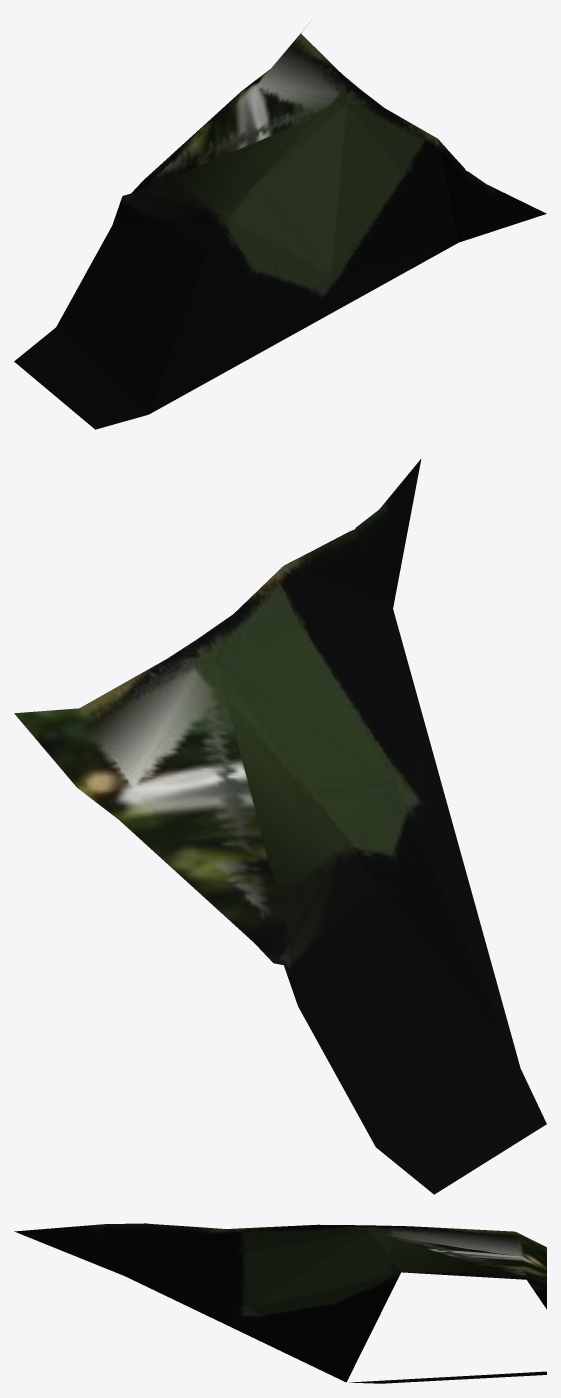
3 views of the same model, one above another, from view 1: azimuth 30°, elevation 25°; view 2: azimuth 150°, elevation 25°; view 3: azimuth 270°, elevation 25° (orthographic). The views are drawn at different scales.
Bounding box in the file's own units: 1.94 × 1.73 × 2.91.
2 materials, 2 textured.
